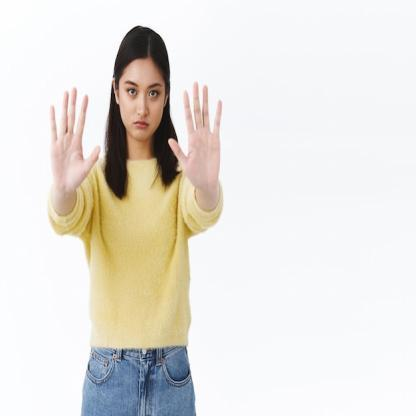stop: (166, 80, 228, 196), (46, 82, 104, 202)
